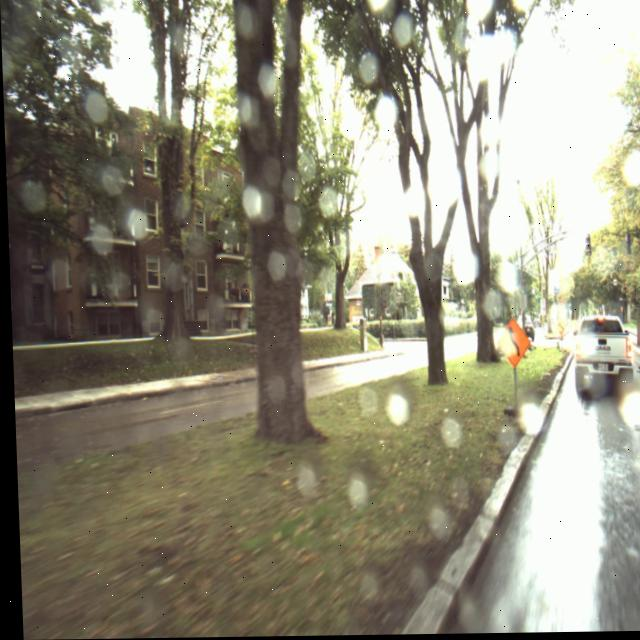car: (570, 316, 630, 404), (512, 314, 532, 345)
trafficLight: (583, 235, 590, 261)
